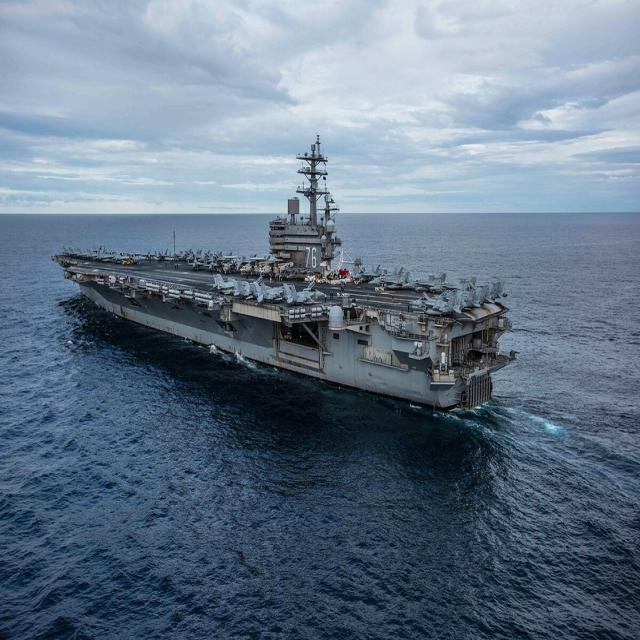Portanaves: (51, 130, 521, 438)
